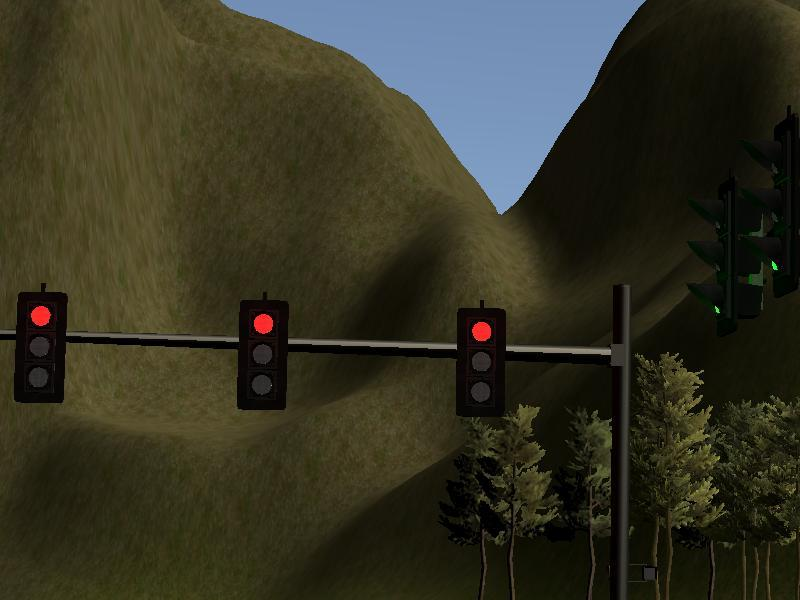Red: (455, 308, 505, 417), (238, 299, 287, 410), (16, 291, 64, 403)
